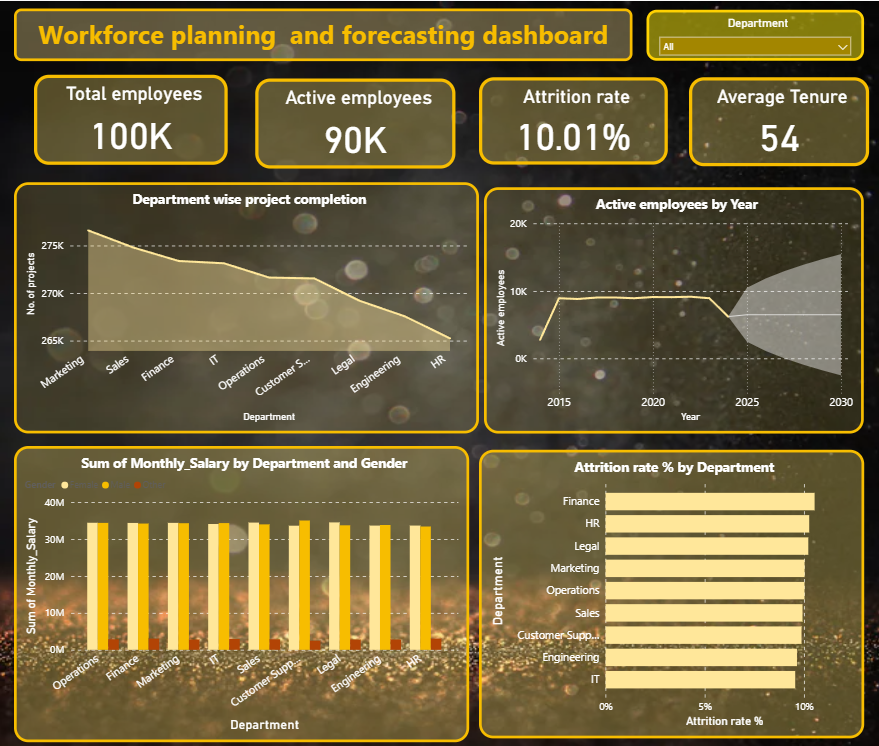

Layout of this report page (visuals, bound fields, positions):
{"tool":"powerbi","page":{"name":"Page 1","canvas":[1300,1100],"ordinal":0},"visuals":[{"type":"card","title":"Total employees","fields":{"Values":["Employee table.Total employees"]},"box":[51.6,108.7,285.7,132.7],"z":0},{"type":"card","title":"Active employees","fields":{"Values":["Employee table.Active employees"]},"box":[377.9,114.3,294.9,132.7],"z":1000},{"type":"card","title":"Attrition rate","fields":{"Values":["Employee table.Attrition rate %"]},"box":[707.8,112.4,278.3,129],"z":2000},{"type":"card","title":"Average Tenure","fields":{"Values":["Avg(Employee table.Tenure(monthly))"]},"box":[1017.4,112.4,265.4,130.9],"z":3000},{"type":"lineChart","fields":{"Category":["Employee table.Hire_Date.Variation.Date Hierarchy.Year","Employee table.Hire_Date.Variation.Date Hierarchy.Month"],"Y":["Employee table.Active employees"]},"box":[715.2,274.6,560.3,363.1],"z":4000},{"type":"barChart","fields":{"Category":["Employee table.Department"],"Y":["Employee table.Attrition rate %"]},"box":[707.8,661.7,567.7,425.8],"z":5000},{"type":"clusteredColumnChart","title":" Departmentwise monthly salary ","fields":{"Y":["Sum(Employee table.Monthly_Salary)"],"Category":["Employee table.Department"],"Series":["Employee table.Gender"]},"box":[22.1,656.2,670.9,436.8],"z":6000},{"type":"areaChart","title":"Department wise project completion","fields":{"Category":["Employee table.Department"],"Y":["Sum(Employee table.Projects_Handled)"]},"box":[22.1,267.3,685.7,370.5],"z":7000},{"type":"textbox","box":[22.1,11.1,912.4,77.4],"z":8000},{"type":"slicer","title":"Department","fields":{"Values":["Employee table.Department"]},"box":[954.8,12.9,320.7,75.6],"z":9000}]}

Visuals, with their boxes in screenshot pixels (x1, y1, x2, y2), scaled from the page's 1300x1100 canvas onto the 879x746 screenshot:
"Total employees" card: [x1=35, y1=74, x2=228, y2=164]
"Active employees" card: [x1=256, y1=78, x2=455, y2=168]
"Attrition rate" card: [x1=479, y1=76, x2=667, y2=164]
"Average Tenure" card: [x1=688, y1=76, x2=867, y2=165]
lineChart - Employee table.Hire_Date.Variation.Date Hierarchy.Year x Employee table.Hire_Date.Variation.Date Hierarchy.Month: [x1=484, y1=186, x2=862, y2=432]
barChart - Employee table.Department x Employee table.Attrition rate %: [x1=479, y1=449, x2=862, y2=738]
" Departmentwise monthly salary " clusteredColumnChart: [x1=15, y1=445, x2=469, y2=741]
"Department wise project completion" areaChart: [x1=15, y1=181, x2=479, y2=433]
textbox: [x1=15, y1=8, x2=632, y2=60]
"Department" slicer: [x1=646, y1=9, x2=862, y2=60]
